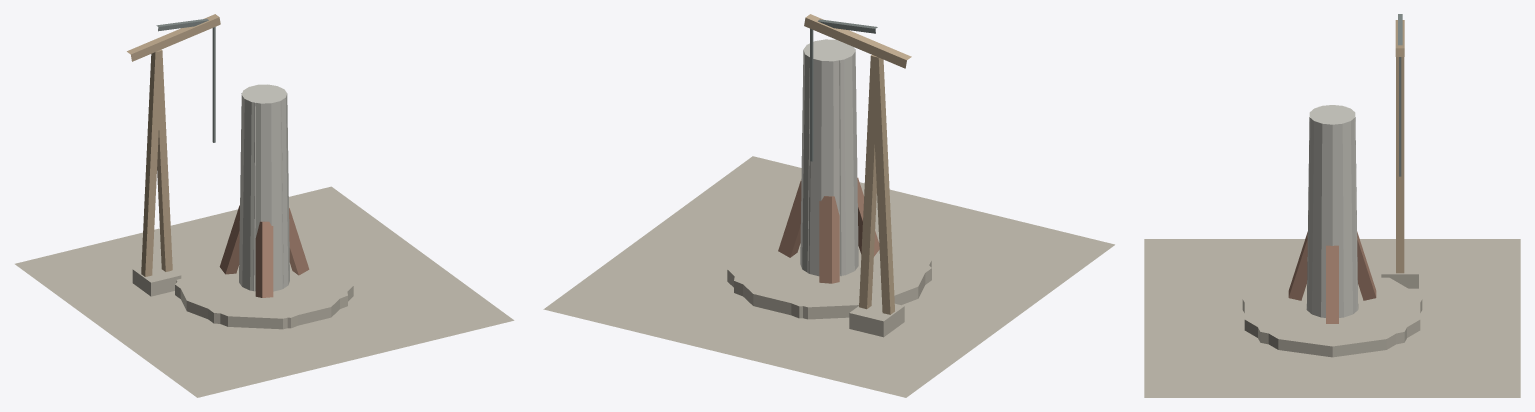
The picture shows the model from 3 angles, left to right: view 1: azimuth 30°, elevation 25°; view 2: azimuth 150°, elevation 25°; view 3: azimuth 270°, elevation 25°; orthographic projection. The views are drawn at different scales.
Parts seen in each view (by area): view 1: Near, Mid, Far; view 2: Near, Mid, Far; view 3: Near, Far, Mid.
Part boxes in pixels (x1,y1,x2,y2): Near: (15,14,514,397); Mid: (175,84,347,328); Far: (180,84,341,315); Near: (543,14,1114,397); Mid: (734,39,931,318); Far: (742,46,930,303); Near: (1144,14,1520,397); Far: (1245,106,1419,337); Mid: (1242,106,1422,345).
Bounding box in the file's own units: 4 × 3.13 × 4.
